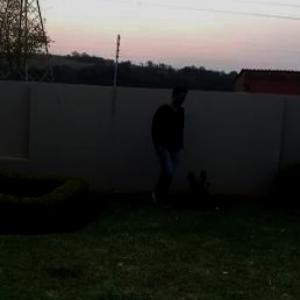follow: (148, 84, 185, 208)
